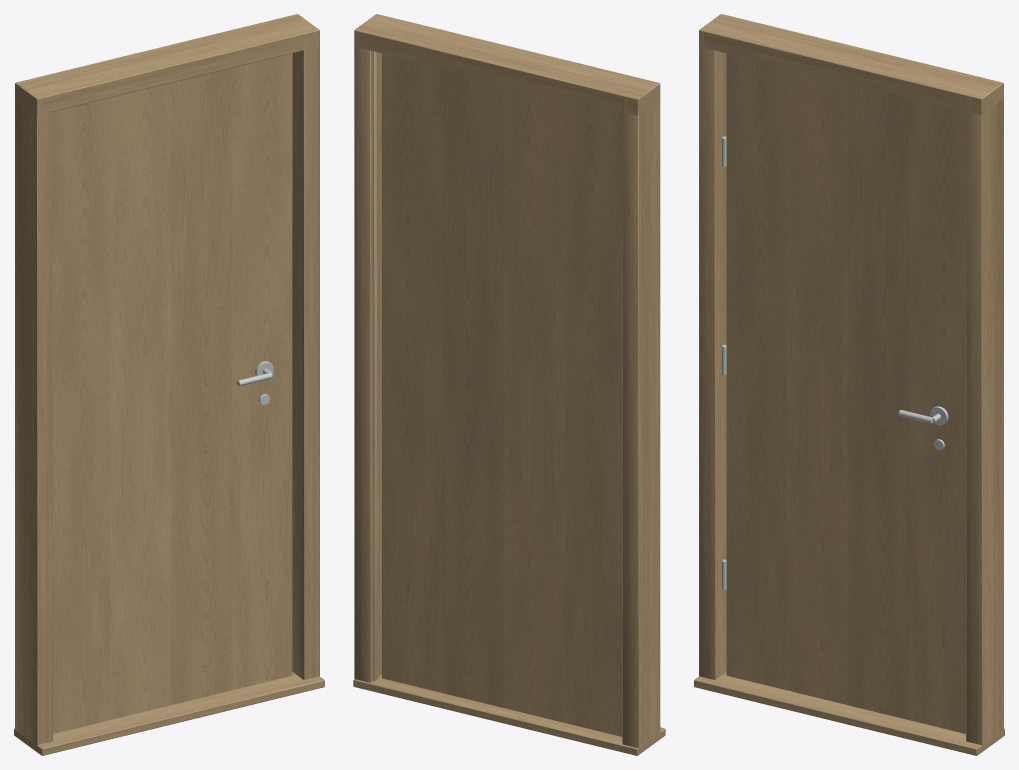
Rendered from flush-flush-interior-door.glb.
3 renders of one model, left to right at view 1: azimuth 30°, elevation 25°; view 2: azimuth 150°, elevation 25°; view 3: azimuth 330°, elevation 25°, orthographic.
Visible parts, largest first — view 1: Leaf | flush veneer slab, Frame | jamb, Frame | jamb.001, Frame | header, Frame | sill; view 2: Leaf | flush veneer slab, Frame | jamb, Frame | jamb.001, Frame | header, Frame | sill, Frame | door stop.001; view 3: Leaf | flush veneer slab, Frame | jamb.001, Frame | jamb, Frame | header, Frame | sill.
Boxes of the visible parts, x1=… form: Leaf | flush veneer slab: x1=53, y1=53, x2=292, y2=733; Frame | jamb: x1=15, y1=83, x2=52, y2=751; Frame | jamb.001: x1=292, y1=30, x2=319, y2=679; Frame | header: x1=15, y1=14, x2=319, y2=114; Frame | sill: x1=14, y1=672, x2=324, y2=755; Leaf | flush veneer slab: x1=382, y1=53, x2=622, y2=736; Frame | jamb: x1=622, y1=93, x2=660, y2=751; Frame | jamb.001: x1=354, y1=30, x2=381, y2=682; Frame | header: x1=354, y1=14, x2=660, y2=115; Frame | sill: x1=353, y1=674, x2=665, y2=755; Frame | door stop.001: x1=372, y1=51, x2=378, y2=681; Leaf | flush veneer slab: x1=726, y1=53, x2=965, y2=733; Frame | jamb.001: x1=966, y1=87, x2=1003, y2=751; Frame | jamb: x1=699, y1=30, x2=726, y2=679; Frame | header: x1=699, y1=14, x2=1003, y2=114; Frame | sill: x1=694, y1=672, x2=1004, y2=755.
Size of the model in its own units: 0.953 by 2.1 by 0.165.
Materials: 3 (3 with a texture image).
